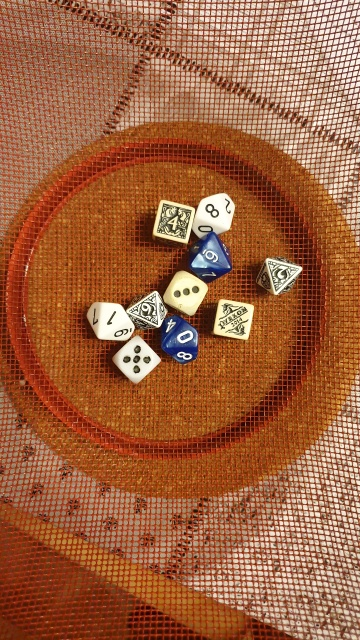d10-1: (83, 300, 137, 345)
d10-10: (159, 315, 202, 366)
d10-6: (188, 233, 235, 280)
d10-8: (190, 187, 239, 240)
d6-3: (160, 267, 208, 315)
d6-5: (110, 333, 160, 384)
d6p-1: (210, 298, 255, 344)
d6p-4: (150, 200, 196, 247)
d8p-2: (253, 252, 308, 300)
d8p-6: (124, 289, 170, 331)
